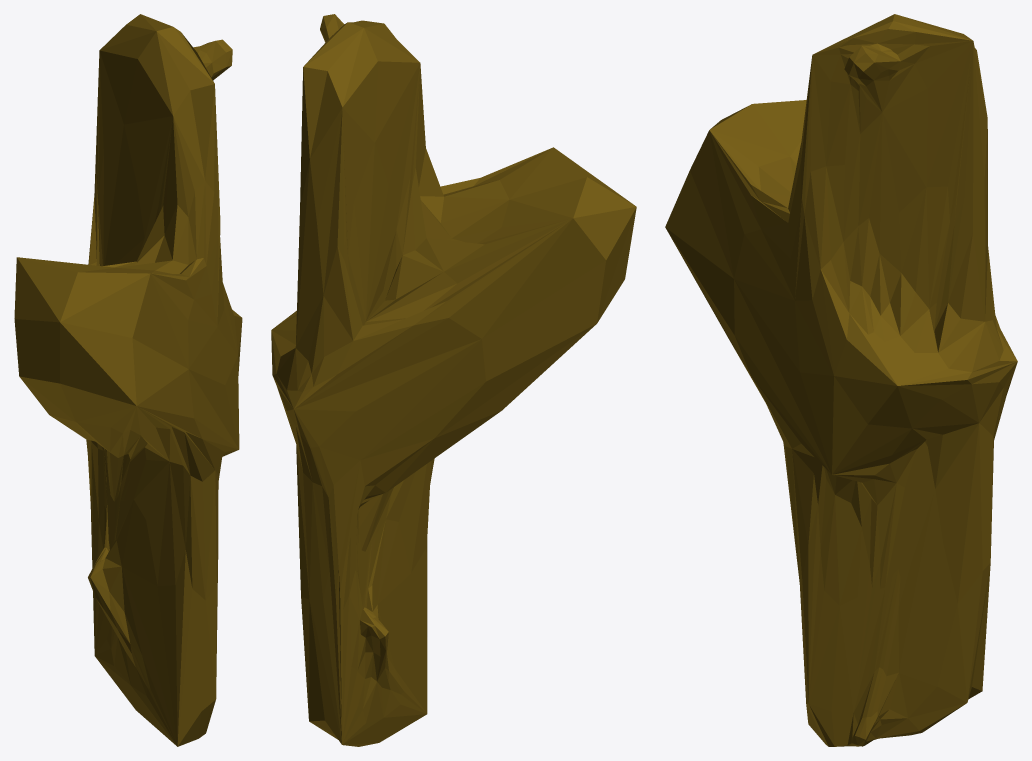
3 renders of one model, left to right at view 1: azimuth 30°, elevation 25°; view 2: azimuth 150°, elevation 25°; view 3: azimuth 270°, elevation 25°, orthographic. The views are drawn at different scales.
Visible parts, largest first — view 1: 350_Cube.1430; view 2: 350_Cube.1430; view 3: 350_Cube.1430.
Part boxes in pixels (<box>): 350_Cube.1430: <box>14,14,242,746</box>; 350_Cube.1430: <box>271,14,636,746</box>; 350_Cube.1430: <box>665,14,1017,746</box>.
Bounding box in the file's own units: 5.06 × 12.14 × 5.33.
